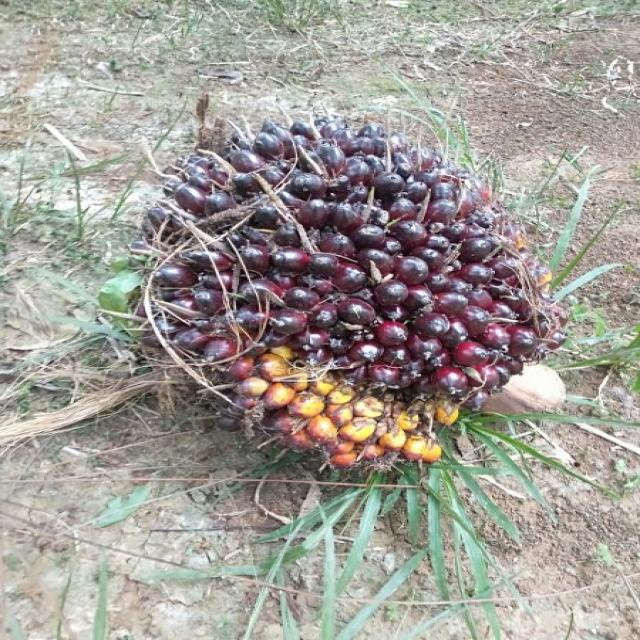fraksi 1: (144, 115, 531, 455)
